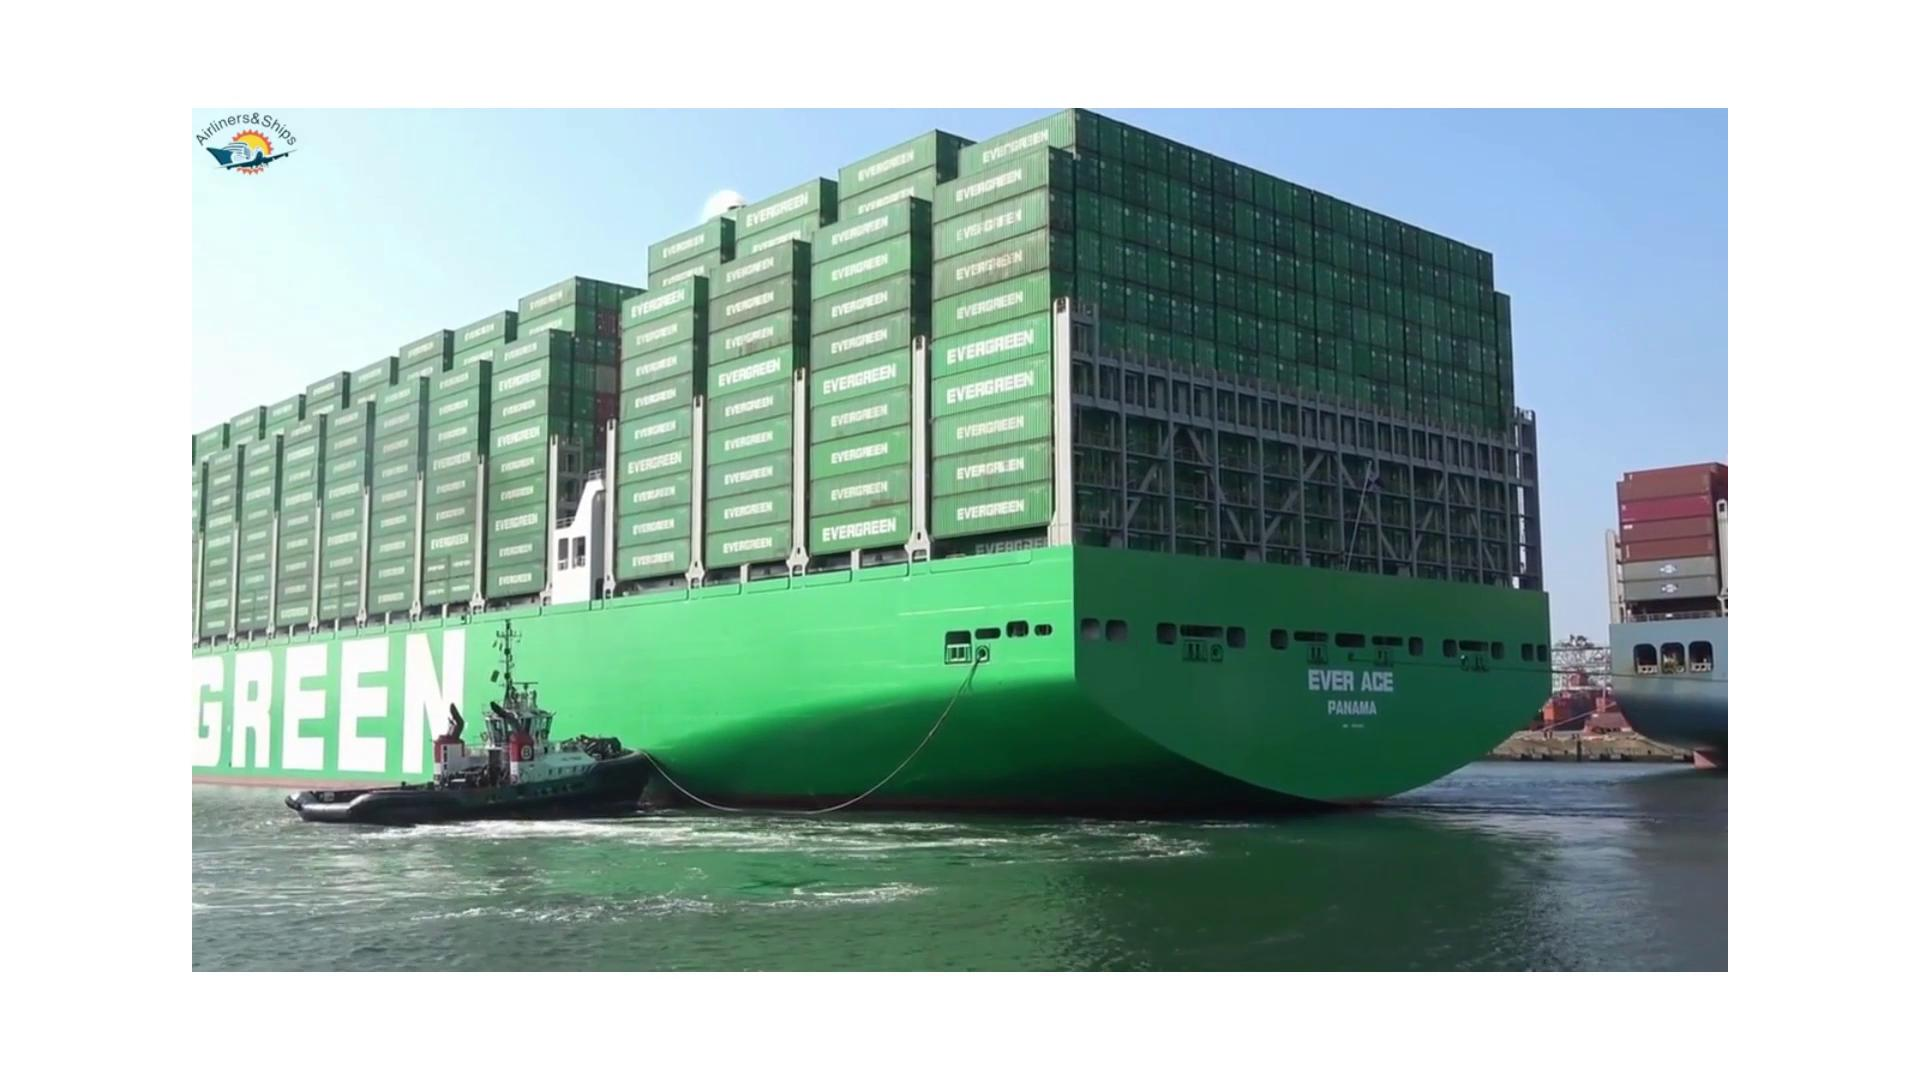OCR: (194, 612, 488, 781), (1261, 641, 1402, 738)
